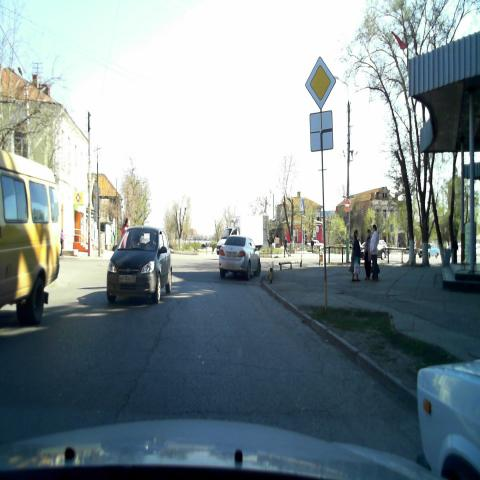8_13: (310, 110, 333, 152)
